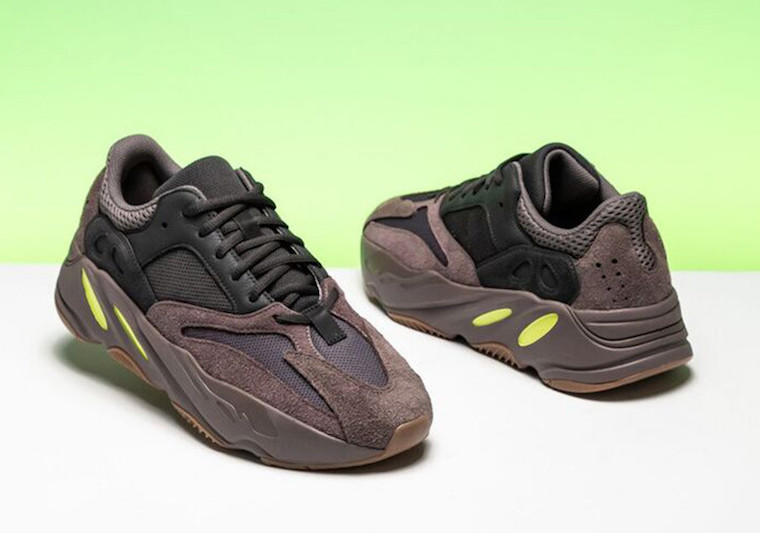adidas Yeezy 700 Mauve: (44, 129, 447, 473), (356, 100, 711, 401)
